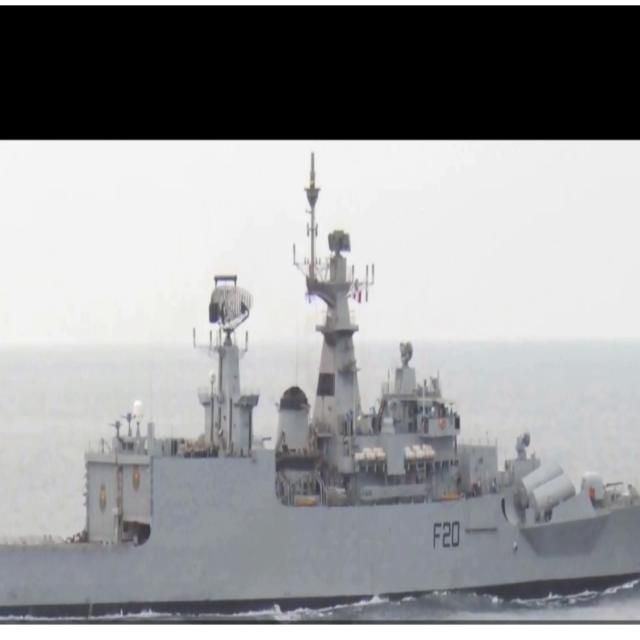OCR: (426, 514, 460, 556)
